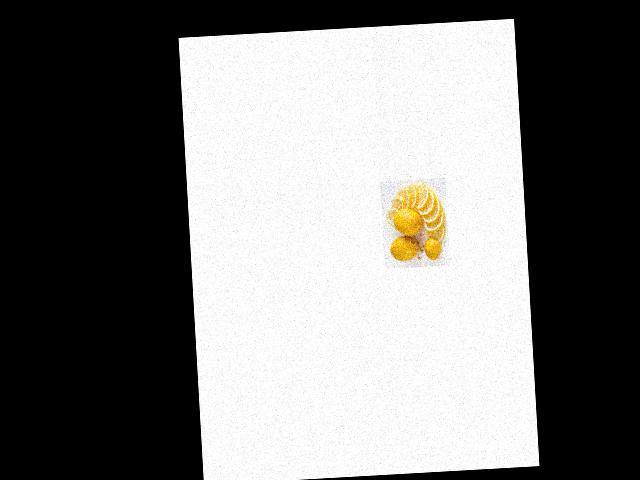lemon: (421, 238, 442, 260)
